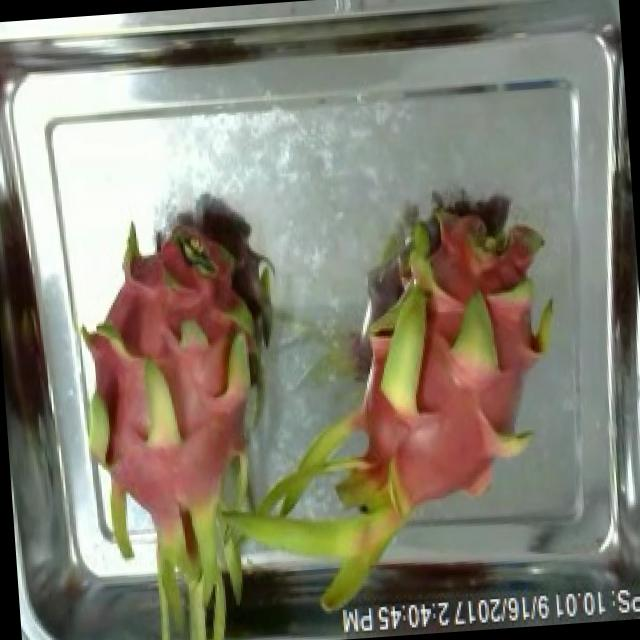Fruit: (408, 188, 554, 316)
